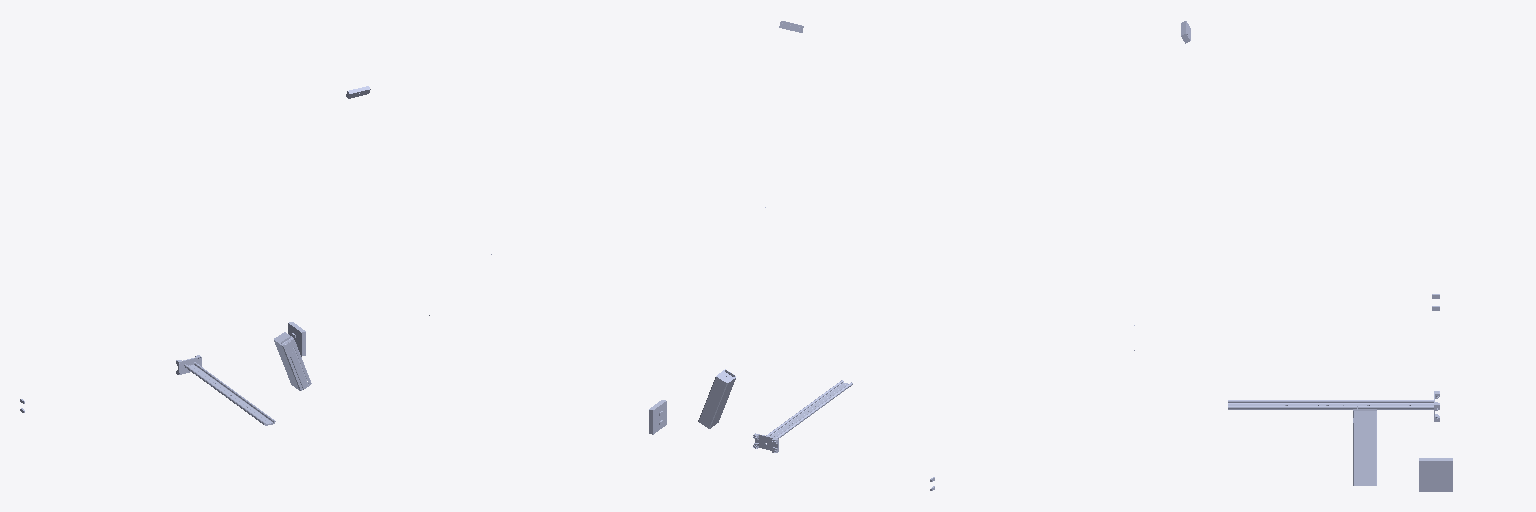
--- Render facts (derived) ---
The picture shows the robot from 3 angles, left to right: view 1: azimuth 30°, elevation 25°; view 2: azimuth 150°, elevation 25°; view 3: azimuth 270°, elevation 25°; orthographic projection.
Model robo_description with 21 links and 20 joints (2 revolute, 2 prismatic, 16 fixed), rooted at base_link, posed all joints at 0 but 1 set to mid-range because 0 is outside their limits (joint5 = 0.4665).
Visible links, largest first — view 1: link2, link5; view 2: link2, link5, base_link; view 3: link2, link5, base_link.
Boxes of the visible links, bbox=[...] form: link2: bbox=[176, 355, 275, 425]; link5: bbox=[274, 332, 311, 390]; link2: bbox=[753, 380, 852, 452]; link5: bbox=[698, 369, 735, 428]; base_link: bbox=[649, 400, 934, 490]; link2: bbox=[1228, 391, 1439, 421]; link5: bbox=[1353, 406, 1376, 485]; base_link: bbox=[1419, 294, 1452, 491].
Bounding box of the posed robot: 1.74 × 1.01 × 1.46 m (x, y, z).
4 mesh visuals loaded from 6 distinct referenced files (4 binary STL); not drawn: 2 (reference not matched to a file when rendering).

robot.urdf — robo_description:
<?xml version="1.0" encoding="utf-8"?>
<!-- 25AUG2023 Changed the minimum limit of lJoint5 to 0.247 and max to 0.686 -->
<!-- This URDF was automatically created by SolidWorks to URDF Exporter! Originally created by Stephen Brawner ([email redacted]) 
     Commit Version: 1.6.0-4-g7f85cfe  Build Version: 1.6.7995.38578
     For more information, please see http://wiki.ros.org/sw_urdf_exporter -->
<robot
  name="robo_description">
  <link
    name="base_link">
    <inertial>
      <origin
        xyz="-5.13826234849775E-17 -1.63904738952765E-17 0.339473684210526"
        rpy="0 0 0" />
      <mass
        value="19" />
      <inertia
        ixx="2.34956140350877"
        ixy="1.11311423041845E-17"
        ixz="3.69215798456927E-16"
        iyy="2.34956140350877"
        iyz="-7.44985984223617E-17"
        izz="0.151666666666667" />
    </inertial>
    <visual>
      <origin
        xyz="0 0 0"
        rpy="0 0 0" />
      <geometry>
        <mesh
          filename="package://robo_description/meshes/base_link.STL" />
      </geometry>
      <material
        name="">
        <color
          rgba="0.792156862745098 0.819607843137255 0.933333333333333 1" />
      </material>
    </visual>
    <collision>
      <origin
        xyz="0 0 0"
        rpy="0 0 0" />
      <geometry>
        <mesh
          filename="package://robo_description/meshes/base_link.STL" />
      </geometry>
    </collision>
  </link>
  <link
    name="link2">
    <inertial>
      <origin
        xyz="-0.001261 -0.2858 0.14572"
        rpy="0 0 0" />
      <mass
        value="3.13280329013611" />
      <inertia
        ixx="0.0169430024052603"
        ixy="-0.00280446630124331"
        ixz="0.0223183329111622"
        iyy="0.162057682822749"
        iyz="0.000505061238040558"
        izz="0.161640952999751" />
    </inertial>
    <visual>
      <origin
        xyz="0 0 -1"
        rpy="0 0 0" />
      <geometry>
        <mesh
          filename="package://robo_description/meshes/link2.STL" />
      </geometry>
      <material
        name="">
        <color
          rgba="0.792156862745098 0.819607843137255 0.933333333333333 1" />
      </material>
    </visual>
    <collision>
      <origin
        xyz="0 0 0"
        rpy="0 0 0" />
      <geometry>
        <mesh
          filename="package://robo_description/meshes/link2.STL" />
      </geometry>
    </collision>
  </link>
  <joint
    name="joint2"
    type="prismatic">
    <origin
      xyz="0.0 0 1"
      rpy="0 0 0" />
    <parent
      link="base_link" />
    <child
      link="link2" />
    <axis
      xyz="0 0 1" />
    <limit
      lower="0"
      upper="1"
      effort="0"
      velocity="0" />
  </joint>
  <link
    name="link4">
    <inertial>
      <origin
        xyz="-0.000438554587764983 0.0620490502692163 -0.172885898172371"
        rpy="0 0 0" />
      <mass
        value="0.162146723185788" />
      <inertia
        ixx="0.00336616371871891"
        ixy="1.46811284877534E-06"
        ixz="-3.57096843523024E-06"
        iyy="0.00312866852492012"
        iyz="0.00048231220150353"
        izz="0.000338308018448651" />
    </inertial>
    <visual>
      <origin
        xyz="-0.4665 0 -0.790"
        rpy="0 0 0" />
      <geometry>
        <mesh
          filename="package://robo_description/meshes/link4.STL" />
      </geometry>
      <material
        name="">
        <color
          rgba="0.792156862745098 0.819607843137255 0.933333333333333 1" />
      </material>
    </visual>
    <collision>
      <origin
        xyz="0 0 0"
        rpy="0 0 0" />
      <geometry>
        <mesh
          filename="package://robo_description/meshes/link4.STL" />
      </geometry>
    </collision>
  </link>
  <joint
    name="joint4"
    type="revolute">
    <origin
      xyz="0.4665 0 -0.21"
      rpy="0 0 0" />
    <parent
      link="link2" />
    <child
      link="link4" />
    <axis
      xyz="0 0 1" />
    <limit
      lower="-2.9671"
      upper="2.9671"
      effort="0"
      velocity="0" />
  </joint>
  <link
    name="link3">
    <inertial>
      <origin
        xyz="-0.0832189655707039 -0.0894795892974461 -0.00179630042130147"
        rpy="0 0 0" />
      <mass
        value="1.71811977068641" />
      <inertia
        ixx="0.00948440583507882"
        ixy="-0.00159429497921182"
        ixz="0.00308193362516688"
        iyy="0.035537875179704"
        iyz="0.000648421421055908"
        izz="0.0305779645247813" />
    </inertial>
    <visual>
      <origin
        xyz="-0.468545 -0.078 -0.43528"
        rpy="0 0 0" />
      <geometry>
        <mesh
          filename="package://robo_description/meshes/link3.STL" />
      </geometry>
      <material
        name="">
        <color
          rgba="0.792156862745098 0.819607843137255 0.933333333333333 1" />
      </material>
    </visual>
    <collision>
      <origin
        xyz="0 0 0"
        rpy="0 0 0" />
      <geometry>
        <mesh
          filename="package://robo_description/meshes/link3.STL" />
      </geometry>
    </collision>
  </link>
  <joint
    name="joint3"
    type="revolute">
    <origin
      xyz="0.0 0.077824 -0.35472"
      rpy="0 0 0" />
    <parent
      link="link4" />
    <child
      link="link3" />
    <axis
      xyz="0 1 0" />
    <limit
      lower="-1.5708"
      upper="1.5708"
      effort="0"
      velocity="0" />
  </joint>
  <link
    name="yanthra_link">
    <inertial>
      <origin
        xyz="-0.0832189655707036 -0.0114795892974462 -0.00179630042130124"
        rpy="0 0 0" />
      <mass
        value="1.71811977068641" />
      <inertia
        ixx="0.00948440583507882"
        ixy="-0.00159429497921182"
        ixz="0.0030819336251669"
        iyy="0.035537875179704"
        iyz="0.000648421421055907"
        izz="0.0305779645247813" />
    </inertial>
    <visual>
      <origin
        xyz="0 0 0"
        rpy="0 0 0" />
      <geometry>
        <box size="0.001 0.001 0.001"/>
      </geometry>
      <material
        name="">
        <color
          rgba="0.792156862745098 0.819607843137255 0.933333333333333 1" />
      </material>
    </visual>
    <collision>
      <origin
        xyz="0 0 0"
        rpy="0 0 0" />
      <geometry>
        <box size="0.001 0.001 0.001"/>
      </geometry>
    </collision>
  </link>
  <joint
    name="yanthra_joint"
    type="fixed">
    <origin
      xyz="0 -0.078 0"
      rpy="0 0 0" />
    <parent
      link="link3" />
    <child
      link="yanthra_link" />
    <axis
      xyz="0 0 0" />
  </joint>
  <link
    name="link5_origin">
    <inertial>
      <origin
        xyz="-0.00874999999999998 0.0375 -0.00507843424240889"
        rpy="0 0 0" />
      <mass
        value="0.0438088883035136" />
      <inertia
        ixx="3.24913884800222E-05"
        ixy="1.33063310958086E-21"
        ixz="-8.470329472543E-22"
        iyy="3.99574478810853E-06"
        iyz="-3.38875204913906E-21"
        izz="3.07317223657389E-05" />
    </inertial>
    <visual>
      <origin
        xyz="0 0 0"
        rpy="0 0 0" />
      <geometry>
        <box size="0.001 0.001 0.001"/>
      </geometry>
      <material
        name="">
        <color
          rgba="0.792156862745098 0.819607843137255 0.933333333333333 1" />
      </material>
    </visual>
    <collision>
      <origin
        xyz="0 0 0"
        rpy="0 0 0" />
      <geometry>
        <box size="0.001 0.001 0.001"/>
      </geometry>
    </collision>
  </link>
  <joint
    name="link5_origin_joint"
    type="fixed">
    <origin
      xyz="0 0 0.0"
      rpy="0 0 0" />
    <parent	
      link="yanthra_link" />
    <child
      link="link5_origin" />
    <axis
      xyz="0 0 0" />
  </joint>
  <link
    name="link5">
    <inertial>
      <origin
        xyz="0.108132413871145 2.08242781028485E-06 0.00569147154470495"
        rpy="0 0 0" />
      <mass
        value="0.277404400359573" />
      <inertia
        ixx="0.00021628976171093"
        ixy="1.27900715148446E-06"
        ixz="-0.000135093187106687"
        iyy="0.00359200319167061"
        iyz="-8.36237914028336E-08"
        izz="0.00358633509004247" />
    </inertial>
    <visual>
      <origin
        xyz="-0.715545 0 -0.43528"
        rpy="0 0 0" />
      <geometry>
        <mesh
          filename="package://robo_description/meshes/link5.STL" />
      </geometry>
      <material
        name="">
        <color
          rgba="0.792156862745098 0.819607843137255 0.933333333333333 1" />
      </material>
    </visual>
    <collision>
      <origin
        xyz="0 0 0"
        rpy="0 0 0" />
      <geometry>
        <mesh
          filename="package://robo_description/meshes/link5.STL" />
      </geometry>
    </collision>
  </link>
  <joint
    name="joint5"
    type="prismatic">
    <origin
      xyz="0.0 0 0"
      rpy="0 0 0" />
    <parent
      link="link5_origin" />
    <child
      link="link5" />
    <axis
      xyz="1 0 0" />
    <limit
      lower="0.247"
      upper="0.686"
      effort="0"
      velocity="0" />
  </joint>
  <link
    name="ee_link">
    <inertial>
      <origin
        xyz="-0.00874999999999998 0.0375 -0.00507843424240889"
        rpy="0 0 0" />
      <mass
        value="0.0438088883035136" />
      <inertia
        ixx="3.24913884800222E-05"
        ixy="1.33063310958086E-21"
        ixz="-8.470329472543E-22"
        iyy="3.99574478810853E-06"
        iyz="-3.38875204913906E-21"
        izz="3.07317223657389E-05" />
    </inertial>
    <visual>
      <origin
        xyz="0 0 0"
        rpy="0 0 0" />
      <geometry>
        <box size="0.001 0.001 0.001"/>
      </geometry>
      <material
        name="">
        <color
          rgba="0.792156862745098 0.819607843137255 0.933333333333333 1" />
      </material>
    </visual>
    <collision>
      <origin
        xyz="0 0 0"
        rpy="0 0 0" />
      <geometry>
        <box size="0.001 0.001 0.001"/>
      </geometry>
    </collision>
  </link>
  <joint
    name="ee_joint"
    type="fixed">
    <origin
      xyz="0 0 0"
      rpy="0 0 0" />
    <parent	
      link="link5" />
    <child
      link="ee_link" />
    <axis
      xyz="0 0 0" />
  </joint>
  <link
    name="link7">
    <inertial>
      <origin
        xyz="-0.00129487747822488 -0.0114795892973884 0.11996423535158"
        rpy="0 0 0" />
      <mass
        value="1.71811977068641" />
      <inertia
        ixx="0.0113386071435481"
        ixy="-0.00171490439294498"
        ixz="-0.00672100859249017"
        iyy="0.0355378751797041"
        iyz="-0.0001460470577602"
        izz="0.0287237632163119" />
    </inertial>
    <visual>
      <origin
        xyz="0 0 0"
        rpy="0 0 0" />
      <geometry>
        <box size="0.001 0.001 0.001"/>
      </geometry>
      <material
        name="">
        <color
          rgba="0.792156862745098 0.819607843137255 0.933333333333333 1" />
      </material>
    </visual>
    <collision>
      <origin
        xyz="0 0 0"
        rpy="0 0 0" />
      <geometry>
        <box size="0.001 0.001 0.001"/>
      </geometry>
    </collision>
  </link>
  <joint
    name="joint7"
    type="fixed">
    <origin
      xyz="0.46976 -0.069971 0.79711"
      rpy="0 0.785398 -1.5708" />
    <parent
      link="base_link"/>
    <child
      link="link7"/>
    <axis
      xyz="0 0 0" />
  </joint>
  <link
    name="camera_mount_link">
    <inertial>
      <origin
        xyz="-0.00129487747822488 -0.0114795892973883 0.11996423535158"
        rpy="0 0 0" />
      <mass
        value="1.71811977068641" />
      <inertia
        ixx="0.0113386071435481"
        ixy="-0.00171490439294498"
        ixz="-0.00672100859249018"
        iyy="0.0355378751797041"
        iyz="-0.000146047057760202"
        izz="0.0287237632163119" />
    </inertial>
    <visual>
      <origin
        xyz="0 0 0"
        rpy="0 0 0" />
      <geometry>
        <box size="0.001 0.001 0.001"/>
      </geometry>
      <material
        name="">
        <color
          rgba="0.792156862745098 0.819607843137255 0.933333333333333 1" />
      </material>
    </visual>
    <collision>
      <origin
        xyz="0 0 0"
        rpy="0 0 0" />
      <geometry>
        <box size="0.001 0.001 0.001"/>
      </geometry>
    </collision>
  </link>
  <joint
    name="camera_mount_joint"
    type="fixed">
    <origin
      xyz="0.02095 -0.0375 0"
      rpy="-1.5708 0 -1.5708" />
    <parent
      link="link7" />
    <child
      link="camera_mount_link" />
    <axis
      xyz="0 0 0" />
  </joint>
  <link
    name="virtual_cam_link">
    <inertial>
      <origin
        xyz="-0.00874999999999998 0.0375 -0.00507843424240889"
        rpy="0 0 0" />
      <mass
        value="0.0438088883035136" />
      <inertia
        ixx="3.24913884800222E-05"
        ixy="1.33063310958086E-21"
        ixz="-8.470329472543E-22"
        iyy="3.99574478810853E-06"
        iyz="-3.38875204913906E-21"
        izz="3.07317223657389E-05" />
    </inertial>
    <visual>
      <origin
        xyz="0 0 0"
        rpy="0 0 0" />
      <geometry>
        <box size="0.001 0.001 0.001"/>
      </geometry>
      <material
        name="">
        <color
          rgba="0.792156862745098 0.819607843137255 0.933333333333333 1" />
      </material>
    </visual>
    <collision>
      <origin
        xyz="0 0 0"
        rpy="0 0 0" />
      <geometry>
        <box size="0.001 0.001 0.001"/>
      </geometry>
    </collision>
  </link>
  <joint
    name="virtual_cam_link_joint"
    type="fixed">
    <origin
      xyz="0 0 0"
      rpy="0 0 0" />
    <parent	
      link="camera_mount_link" />
    <child
      link="virtual_cam_link" />
    <axis
      xyz="0 0 0" />
  </joint>

  <link
    name="camera_link">
    <inertial>
      <origin
        xyz="-0.00874999999999998 0.0375 -0.00507843424240889"
        rpy="0 0 0" />
      <mass
        value="0.0438088883035136" />
      <inertia
        ixx="3.24913884800222E-05"
        ixy="1.33063310958086E-21"
        ixz="-8.470329472543E-22"
        iyy="3.99574478810853E-06"
        iyz="-3.38875204913906E-21"
        izz="3.07317223657389E-05" />
    </inertial>
    <visual>
      <origin
        xyz="-0.03768 -0.425 -0.175"
        rpy="0 -2.04 -1.5708" />
      <geometry>
        <mesh
          filename="package://robo_description/meshes/camera_link.STL" />
      </geometry>
      <material
        name="">
        <color
          rgba="0.792156862745098 0.819607843137255 0.933333333333333 1" />
      </material>
    </visual>
    <collision>
      <origin
        xyz="0 0 0"
        rpy="0 0 0" />
      <geometry>
        <mesh
          filename="package://robo_description/meshes/camera_link.STL" />
      </geometry>
    </collision>
  </link>
  <joint
    name="camera_link_joint"
    type="fixed">
    <origin
      xyz="0 0 0"
      rpy="0 0 0" />
    <parent
      link="virtual_cam_link" />
    <child
      link="camera_link" />
    <axis
      xyz="0 0 0" />
  </joint>

  <link name="camera_depth_frame">

    <visual>

    <origin xyz="0 0 0" rpy="0 0 0" />

      <geometry>

        <box size="0.001 0.001 0.001"/>

      </geometry>

    </visual>

  </link>

  <joint name="camera_depth_frame_joint" type="fixed">

    <origin rpy="0 0 0" xyz="0 0 0"/>

    <parent link="camera_link"/>

    <child link="camera_depth_frame"/>

  </joint>

  <link name="camera_depth_optical_frame">

    <visual>

    <origin xyz="0 0 0" rpy="0 0 0" />

      <geometry>

        <box size="0.001 0.001 0.001"/>

      </geometry>

    </visual>

  </link>

  <joint name="camera_depth_optical_frame_joint" type="fixed">

   <origin rpy="0 0 0" xyz="0 0 0"/>

   <parent link="camera_depth_frame"/>

   <child link="camera_depth_optical_frame"/>

  </joint>

  <link name="camera_color_frame">

    <visual>

    <origin xyz="0 0 0" rpy="0 0 0" />

      <geometry>

        <box size="0.001 0.001 0.001"/>

      </geometry>

    </visual>

  </link>

  <joint name="camera_color_frame_joint" type="fixed">

    <origin rpy="0 0 0" xyz="0 0 0"/>

    <parent link="camera_link"/>

    <child link="camera_color_frame"/>

  </joint>

  <link name="camera_color_optical_frame">

    <visual>

    <origin xyz="0 0 0" rpy="0 0 0" />

      <geometry>

        <box size="0.001 0.001 0.001"/>

      </geometry>

    </visual>

  </link>

  <joint name="camera_color_optical_frame_joint" type="fixed">

   <origin rpy="0 0 0" xyz="0 0 0"/>

   <parent link="camera_color_frame"/>

   <child link="camera_color_optical_frame"/>

  </joint>
  <link
    name="aruco_marker_link">
    <inertial>
      <origin
        xyz="-0.00874999999999998 0.0375 -0.00507843424240889"
        rpy="0 0 0" />
      <mass
        value="0.0438088883035136" />
      <inertia
        ixx="3.24913884800222E-05"
        ixy="1.33063310958086E-21"
        ixz="-8.470329472543E-22"
        iyy="3.99574478810853E-06"
        iyz="-3.38875204913906E-21"
        izz="3.07317223657389E-05" />
    </inertial>
    <visual>
      <origin
        xyz="0 0 0"
        rpy="0 0 0" />
      <geometry>
        <box size="0.001 0.001 0.001"/>
      </geometry>
      <material
        name="">
        <color
          rgba="0.792156862745098 0.819607843137255 0.933333333333333 1" />
      </material>
    </visual>
    <collision>
      <origin
        xyz="0 0 0"
        rpy="0 0 0" />
      <geometry>
        <box size="0.001 0.001 0.001"/>
      </geometry>
    </collision>
  </link>
  <joint
    name="aruco_joint"
    type="fixed">
    <origin
      xyz="0.0 0.0 0.452"
      rpy="-0.785 0 0" />
    <parent	
      link="camera_link" />
    <child
      link="aruco_marker_link" />
    <axis
      xyz="0 0 0" />
  </joint>
  <link
    name="aruco_link_1">
    <inertial>
      <origin
        xyz="-0.00874999999999998 0.0375 -0.00507843424240889"
        rpy="0 0 0" />
      <mass
        value="0.0438088883035136" />
      <inertia
        ixx="3.24913884800222E-05"
        ixy="1.33063310958086E-21"
        ixz="-8.470329472543E-22"
        iyy="3.99574478810853E-06"
        iyz="-3.38875204913906E-21"
        izz="3.07317223657389E-05" />
    </inertial>
    <visual>
      <origin
        xyz="0 0 0"
        rpy="0 0 0" />
      <geometry>
        <box size="0.001 0.001 0.001"/>
      </geometry>
      <material
        name="">
        <color
          rgba="0.792156862745098 0.819607843137255 0.933333333333333 1" />
      </material>
    </visual>
    <collision>
      <origin
        xyz="0 0 0"
        rpy="0 0 0" />
      <geometry>
        <box size="0.001 0.001 0.001"/>
      </geometry>
    </collision>
  </link>
  <joint
    name="aruco_joint_1"
    type="fixed">
    <origin
      xyz="0.0 0.04 0.04"
      rpy="0 0 0" />
    <parent	
      link="aruco_marker_link" />
    <child
      link="aruco_link_1" />
    <axis
      xyz="0 0 0" />
  </joint>
  <link
    name="aruco_link_2">
    <inertial>
      <origin
        xyz="-0.00874999999999998 0.0375 -0.00507843424240889"
        rpy="0 0 0" />
      <mass
        value="0.0438088883035136" />
      <inertia
        ixx="3.24913884800222E-05"
        ixy="1.33063310958086E-21"
        ixz="-8.470329472543E-22"
        iyy="3.99574478810853E-06"
        iyz="-3.38875204913906E-21"
        izz="3.07317223657389E-05" />
    </inertial>
    <visual>
      <origin
        xyz="0 0 0"
        rpy="0 0 0" />
      <geometry>
        <box size="0.001 0.001 0.001"/>
      </geometry>
      <material
        name="">
        <color
          rgba="0.792156862745098 0.819607843137255 0.933333333333333 1" />
      </material>
    </visual>
    <collision>
      <origin
        xyz="0 0 0"
        rpy="0 0 0" />
      <geometry>
        <box size="0.001 0.001 0.001"/>
      </geometry>
    </collision>
  </link>
  <joint
    name="aruco_joint_2"
    type="fixed">
    <origin
      xyz="0.0 -0.04 0.04"
      rpy="0 0 0" />
    <parent	
      link="aruco_marker_link" />
    <child
      link="aruco_link_2" />
    <axis
      xyz="0 0 0" />
  </joint>
  <link
    name="aruco_link_3">
    <inertial>
      <origin
        xyz="-0.00874999999999998 0.0375 -0.00507843424240889"
        rpy="0 0 0" />
      <mass
        value="0.0438088883035136" />
      <inertia
        ixx="3.24913884800222E-05"
        ixy="1.33063310958086E-21"
        ixz="-8.470329472543E-22"
        iyy="3.99574478810853E-06"
        iyz="-3.38875204913906E-21"
        izz="3.07317223657389E-05" />
    </inertial>
    <visual>
      <origin
        xyz="0 0 0"
        rpy="0 0 0" />
      <geometry>
        <box size="0.001 0.001 0.001"/>
      </geometry>
      <material
        name="">
        <color
          rgba="0.792156862745098 0.819607843137255 0.933333333333333 1" />
      </material>
    </visual>
    <collision>
      <origin
        xyz="0 0 0"
        rpy="0 0 0" />
      <geometry>
        <box size="0.001 0.001 0.001"/>
      </geometry>
    </collision>
  </link>
  <joint
    name="aruco_joint_3"
    type="fixed">
    <origin
      xyz="0.0 0.04 -0.04"
      rpy="0 0 0" />
    <parent	
      link="aruco_marker_link" />
    <child
      link="aruco_link_3" />
    <axis
      xyz="0 0 0" />
  </joint>
  <link
    name="aruco_link_4">
    <inertial>
      <origin
        xyz="-0.00874999999999998 0.0375 -0.00507843424240889"
        rpy="0 0 0" />
      <mass
        value="0.0438088883035136" />
      <inertia
        ixx="3.24913884800222E-05"
        ixy="1.33063310958086E-21"
        ixz="-8.470329472543E-22"
        iyy="3.99574478810853E-06"
        iyz="-3.38875204913906E-21"
        izz="3.07317223657389E-05" />
    </inertial>
    <visual>
      <origin
        xyz="0 0 0"
        rpy="0 0 0" />
      <geometry>
        <box size="0.001 0.001 0.001"/>
      </geometry>
      <material
        name="">
        <color
          rgba="0.792156862745098 0.819607843137255 0.933333333333333 1" />
      </material>
    </visual>
    <collision>
      <origin
        xyz="0 0 0"
        rpy="0 0 0" />
      <geometry>
        <box size="0.001 0.001 0.001"/>
      </geometry>
    </collision>
  </link>
  <joint
    name="aruco_joint_4"
    type="fixed">
    <origin
      xyz="0.0 -0.04 -0.04"
      rpy="0 0 0" />
    <parent	
      link="aruco_marker_link" />
    <child
      link="aruco_link_4" />
    <axis
      xyz="0 0 0" />
  </joint>
  <gazebo reference="stand">

    <material>Gazebo/Grey</material>

  </gazebo>

  <gazebo reference="link3">

    <material>Gazebo/Green</material>

  </gazebo>

  <gazebo reference="link4">

    <material>Gazebo/Red</material>

  </gazebo>

  <gazebo reference="link5">

    <material>Gazebo/Green</material>

  </gazebo>

  <gazebo reference="link9">

    <material>Gazebo/Red</material>

  </gazebo>

  <gazebo reference="link6">

    <material>Gazebo/White</material>

  </gazebo>

  <transmission name="tran1">

    <type>transmission_interface/SimpleTransmission</type>

    <joint name="joint3">

      <hardwareInterface>hardware_interface/PositionJointInterface</hardwareInterface>

    </joint>

    <actuator name="motor1">

      <hardwareInterface>hardware_interface/PositionJointInterface</hardwareInterface>

      <mechanicalReduction>1</mechanicalReduction>

    </actuator>

  </transmission>

  <transmission name="tran1">

    <type>transmission_interface/SimpleTransmission</type>

    <joint name="joint4">

      <hardwareInterface>hardware_interface/PositionJointInterface</hardwareInterface>

    </joint>

    <actuator name="motor1">

      <hardwareInterface>hardware_interface/PositionJointInterface</hardwareInterface>

      <mechanicalReduction>1</mechanicalReduction>

    </actuator>

  </transmission>

  <transmission name="tran1">

    <type>transmission_interface/SimpleTransmission</type>

    <joint name="joint5">

      <hardwareInterface>hardware_interface/PositionJointInterface</hardwareInterface>

    </joint>

    <actuator name="motor1">

      <hardwareInterface>hardware_interface/PositionJointInterface</hardwareInterface>

      <mechanicalReduction>1</mechanicalReduction>

    </actuator>

  </transmission>

  <gazebo>

    <plugin filename="libgazebo_ros_control.so" name="gazebo_ros_control">

      <robotNameSpace>/arm_controller</robotNameSpace>

    </plugin>

  </gazebo>

</robot>
